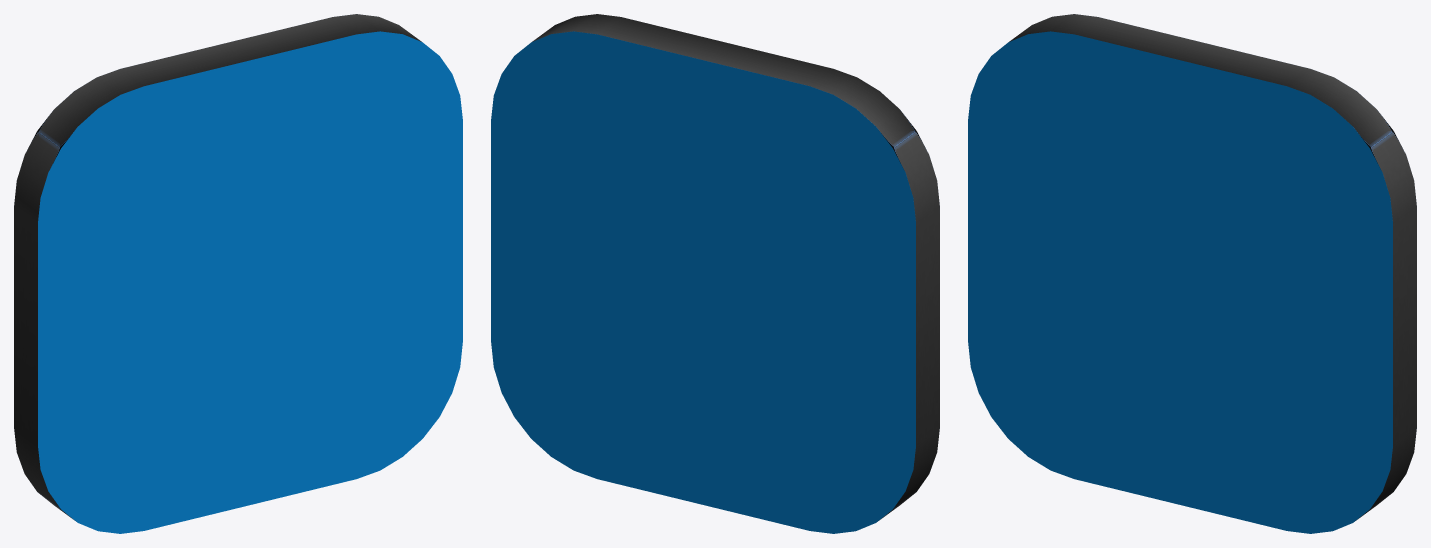
File: CubeButton.fbx
3 renders of one model, left to right at view 1: azimuth 30°, elevation 25°; view 2: azimuth 150°, elevation 25°; view 3: azimuth 330°, elevation 25°, orthographic.
Visible parts, largest first — view 1: ButtonCube; view 2: ButtonCube; view 3: ButtonCube.
Part boxes in pixels (x1,y1,x2,y2): ButtonCube: (14,14,462,533); ButtonCube: (491,14,939,533); ButtonCube: (968,14,1416,533).
Size of the model in its own units: 1 by 1 by 0.097.
